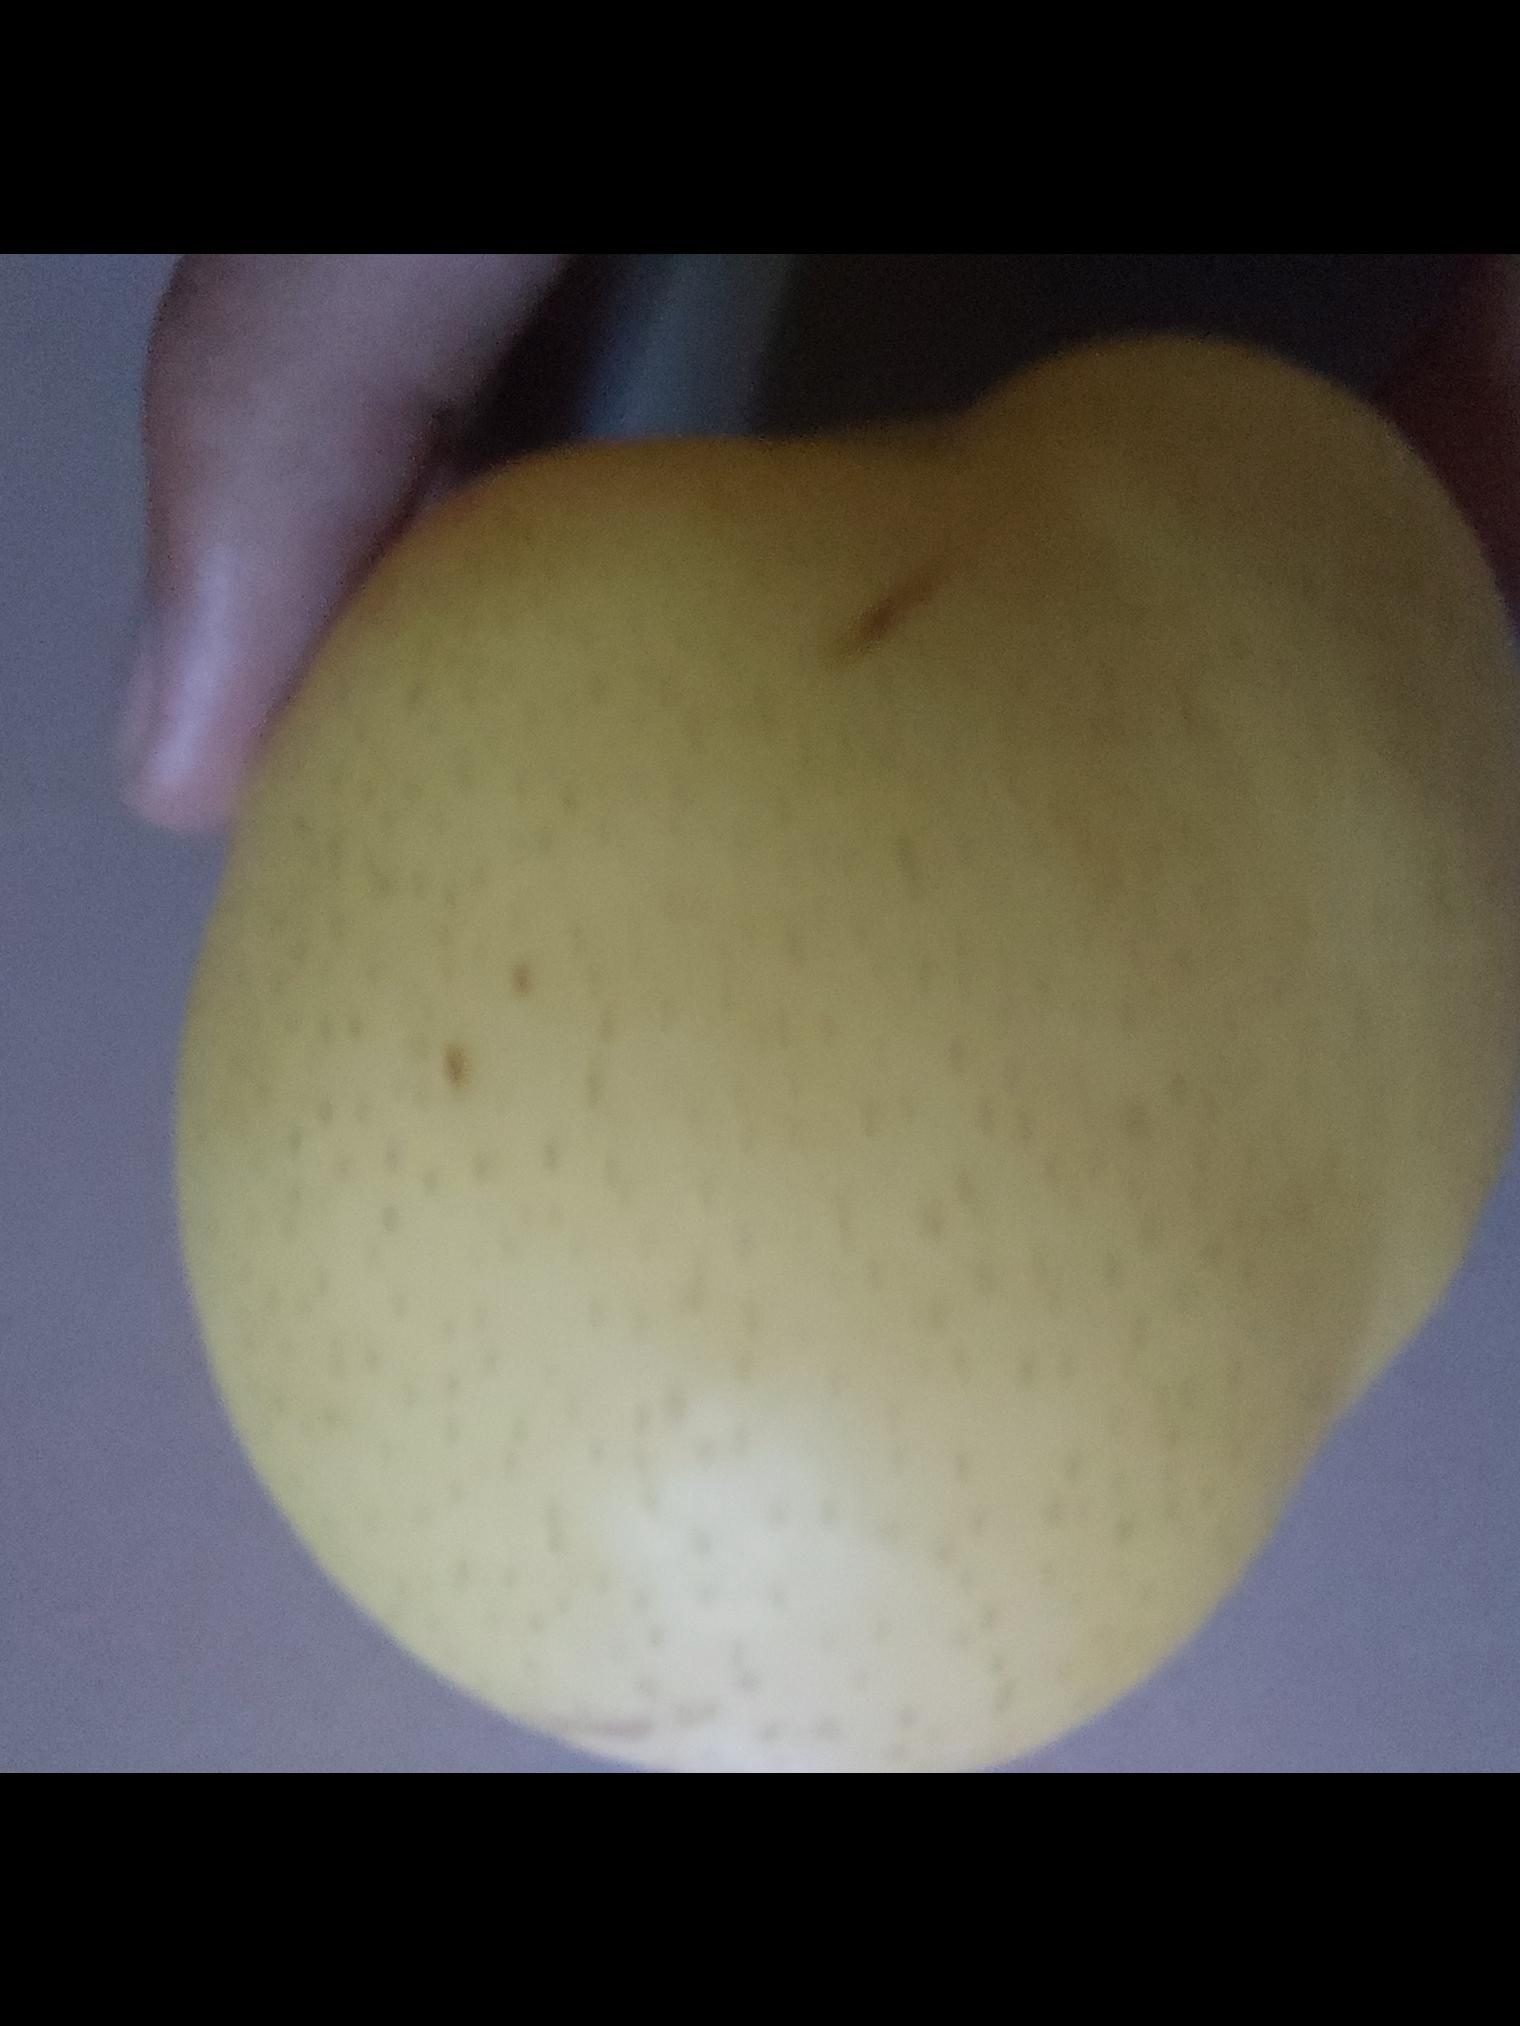Good Pear: (168, 336, 1520, 1773)
